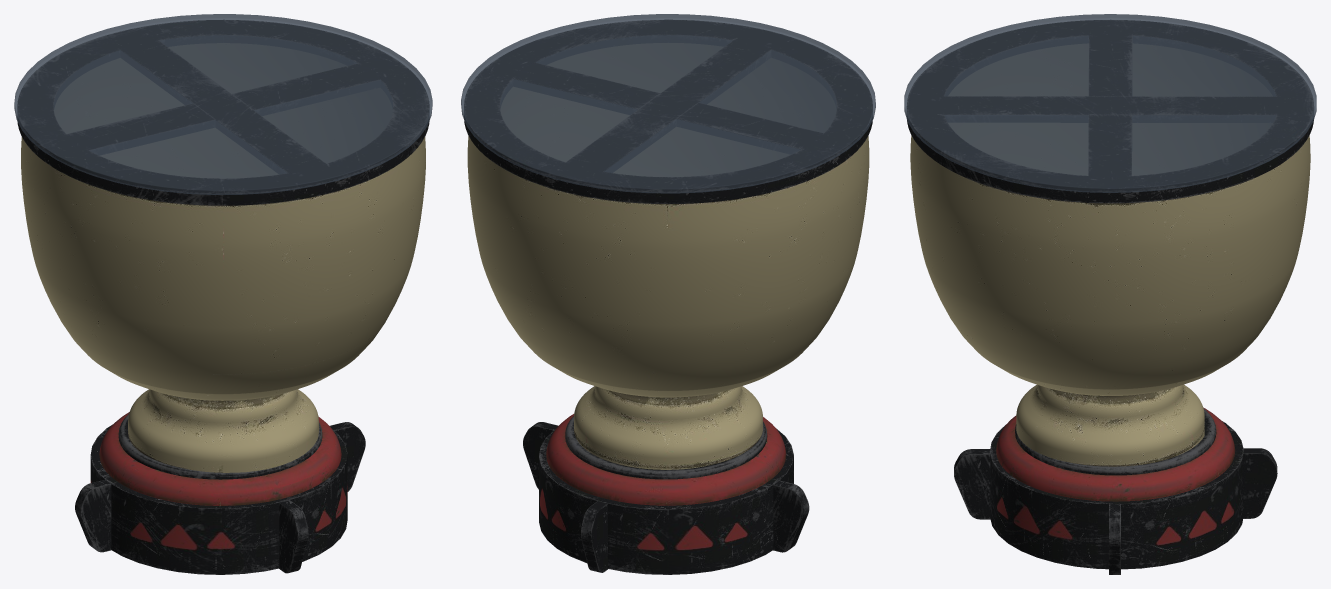
File: drum.glb
3 renders of one model, left to right at view 1: azimuth 30°, elevation 25°; view 2: azimuth 150°, elevation 25°; view 3: azimuth 270°, elevation 25°, orthographic.
Parts seen in each view (by area): view 1: polySurface5, polySurface4, pCylinder1; view 2: polySurface5, polySurface4, pCylinder1; view 3: polySurface5, polySurface4, pCylinder1.
Boxes of the visible parts, x1,y1,x2,y2 form: polySurface5: (21, 43, 425, 505); polySurface4: (17, 20, 429, 574); pCylinder1: (14, 14, 432, 194); polySurface5: (467, 43, 869, 505); polySurface4: (464, 20, 872, 574); pCylinder1: (461, 14, 875, 193); polySurface5: (910, 44, 1310, 501); polySurface4: (907, 20, 1313, 574); pCylinder1: (904, 14, 1316, 192).
Bounding box in the file's own units: 0.1006 × 0.1117 × 0.1004.
Materials: 3 (3 with a texture image).
